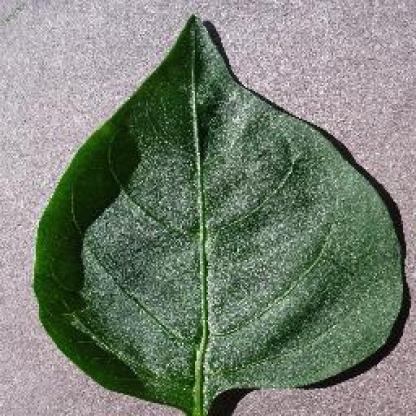good leaf: (55, 84, 370, 357)
